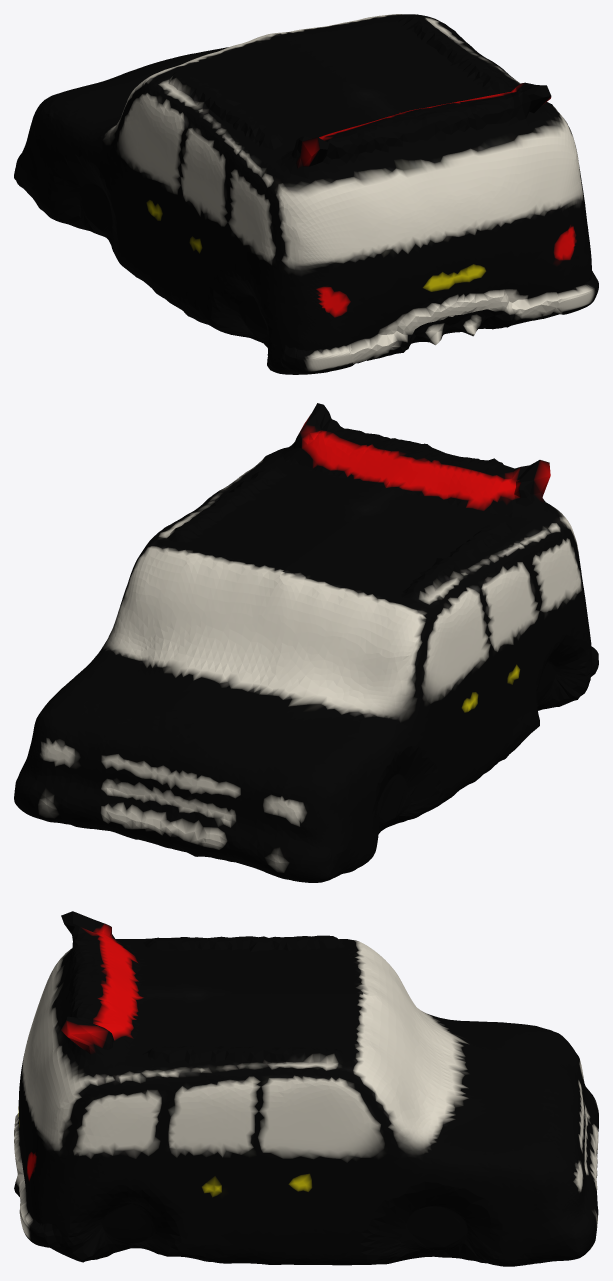
File: simple_car.obj
3 views of the same model, one above another, from view 1: azimuth 30°, elevation 25°; view 2: azimuth 150°, elevation 25°; view 3: azimuth 270°, elevation 25° (orthographic).
Visible parts, largest first — view 1: Merged 2; view 2: Merged 2; view 3: Merged 2.
Boxes of the visible parts, x1,y1,x2,y2 form: Merged 2: [14, 14, 598, 374]; Merged 2: [14, 403, 598, 882]; Merged 2: [14, 911, 598, 1266].
Size of the model in its own units: 0.2714 by 0.1902 by 0.4255.
